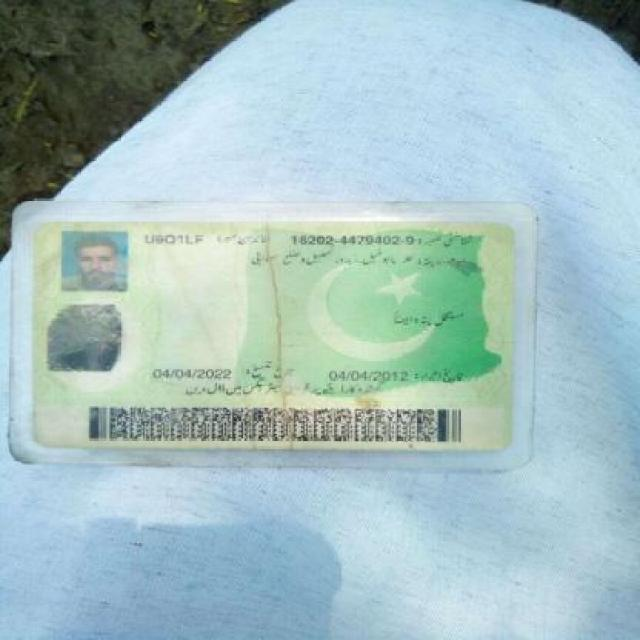Back: (17, 207, 520, 458)
